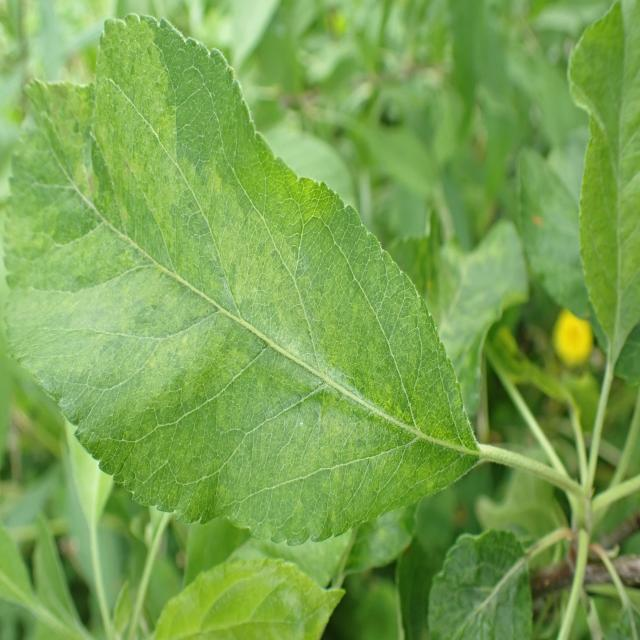scab: (34, 142, 404, 443)
